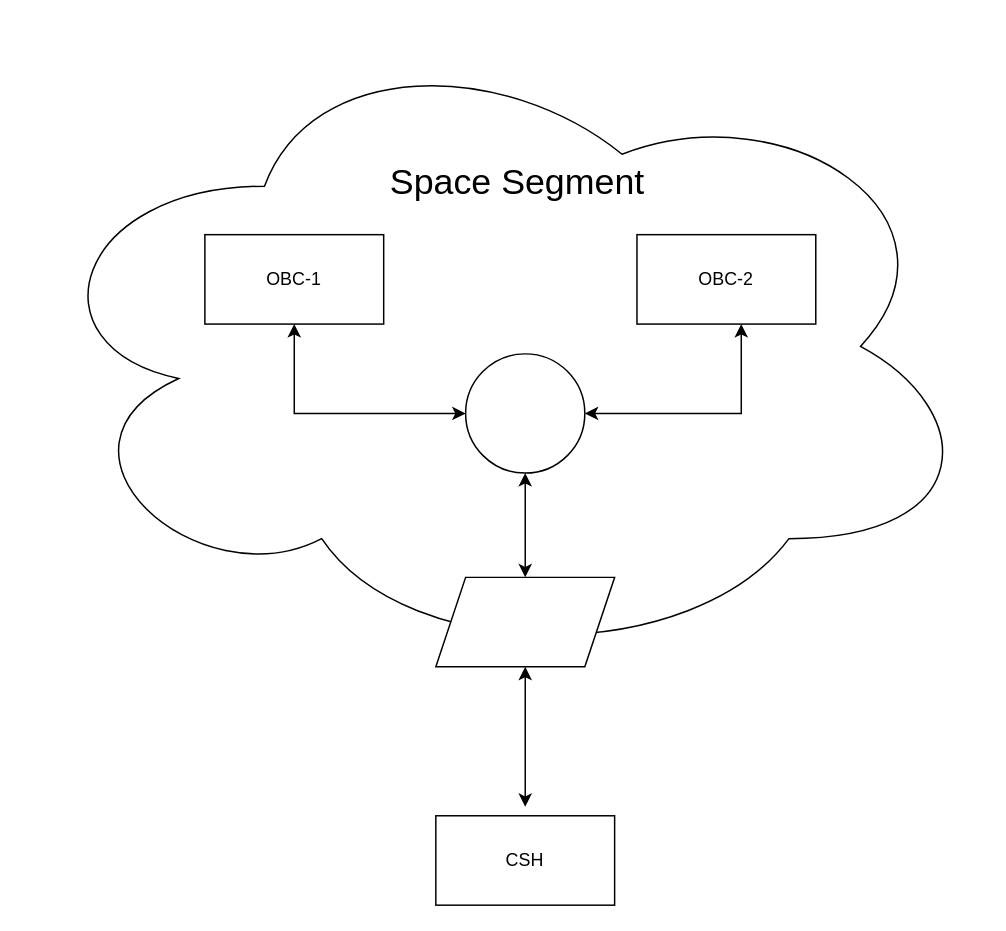
Image size: 1006x931. Some labels were removed from this diagram. Each missing label, with the centre of its shape:
"Space bridge / firewall" goes at (524,621).
"ZMQ Proxy" goes at (524,412).
